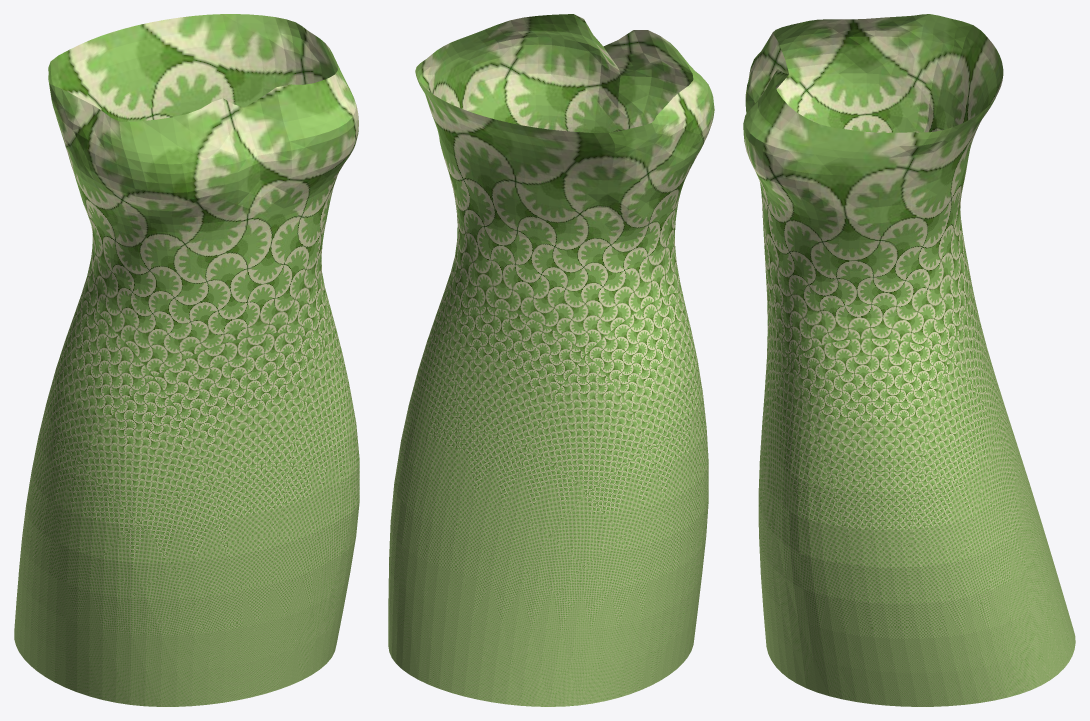
File: dress_green.obj
The picture shows the model from 3 angles, left to right: view 1: azimuth 30°, elevation 25°; view 2: azimuth 150°, elevation 25°; view 3: azimuth 270°, elevation 25°; orthographic projection. The views are drawn at different scales.
Visible parts, largest first — view 1: Dress_Form; view 2: Dress_Form; view 3: Dress_Form.
Part boxes in pixels (left/top/right/bottom): Dress_Form: left=14, top=14, right=359, bottom=706; Dress_Form: left=388, top=14, right=714, bottom=706; Dress_Form: left=743, top=14, right=1075, bottom=706.
Bounding box in the file's own units: 0.2536 × 0.4956 × 0.2535.
1 material, 1 textured.
